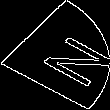N_NW: (10, 23, 100, 87)
